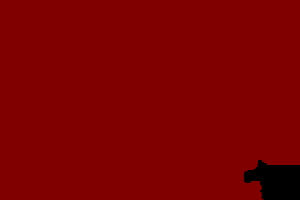Sky: (1, 1, 299, 199)
